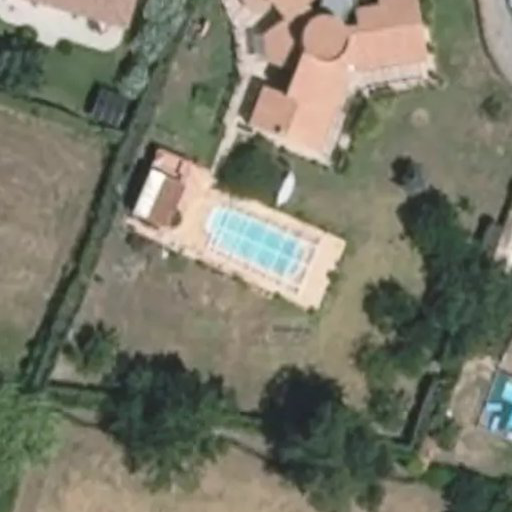pool: (199, 236, 307, 244)
